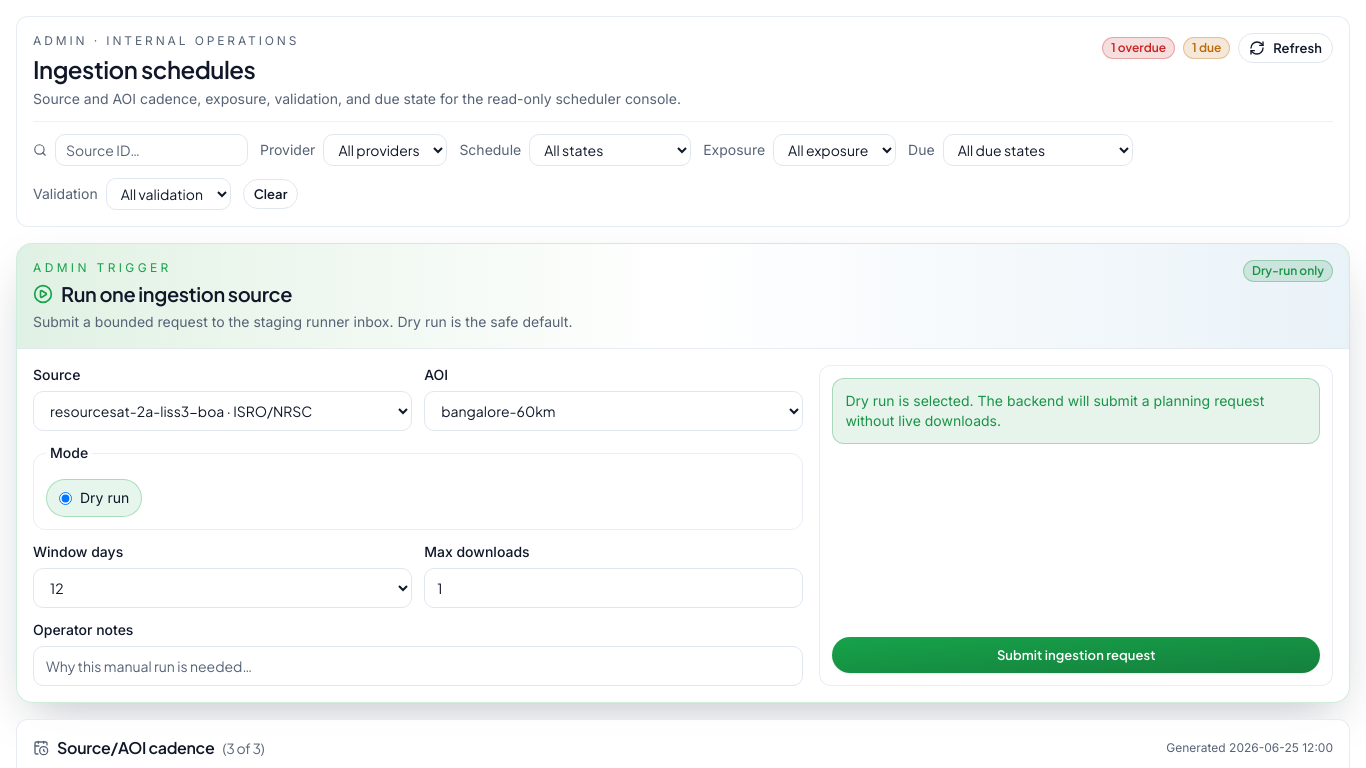
Test case: IngestionSchedules › shows unavailable trigger responses without claiming the job was submitted
Click the button "Submit ingestion request". click: (1076, 655)
box: x1=832 y1=637 x2=1320 y2=673
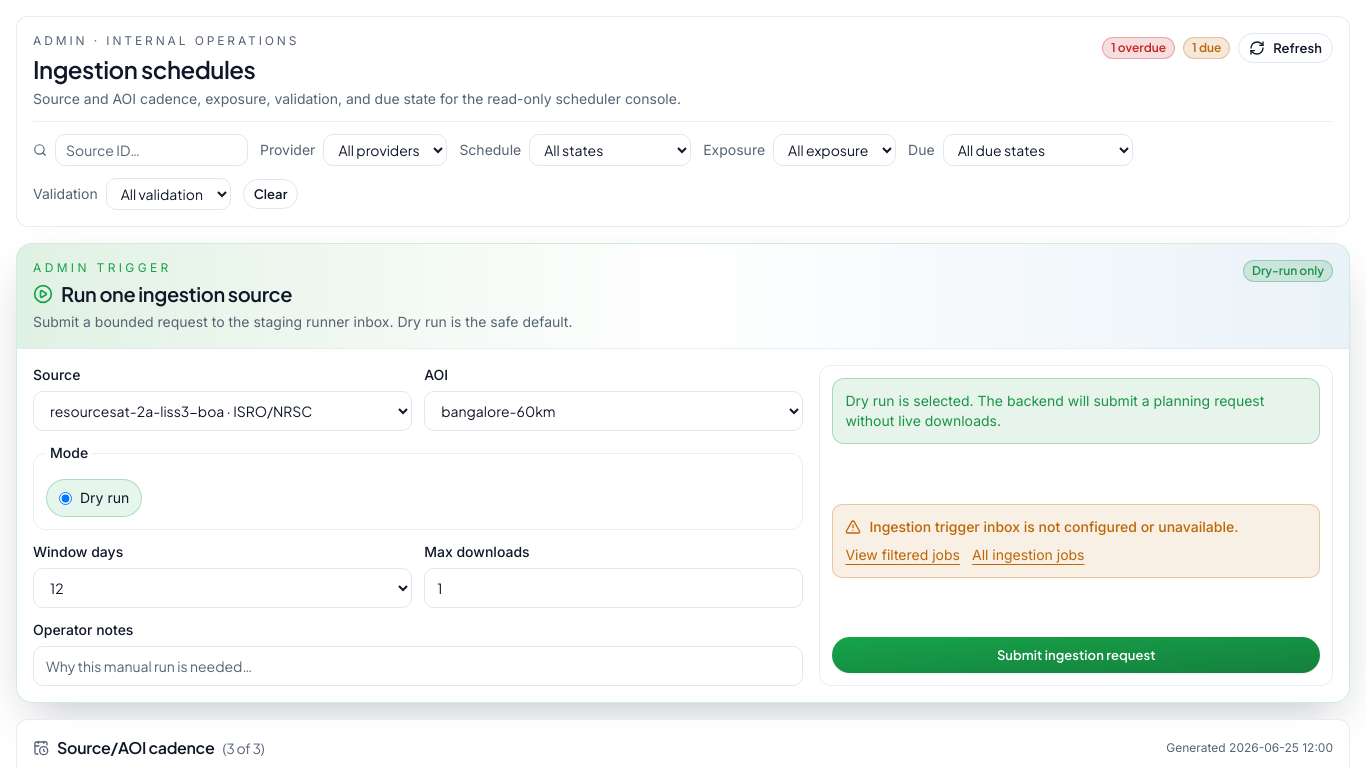
Result: the text "Ingestion trigger inbox is not configured or unavailable." is shown at x1=845 y1=516 x2=1307 y2=536
Result: the link "View filtered jobs" is shown at x1=845 y1=544 x2=960 y2=564
